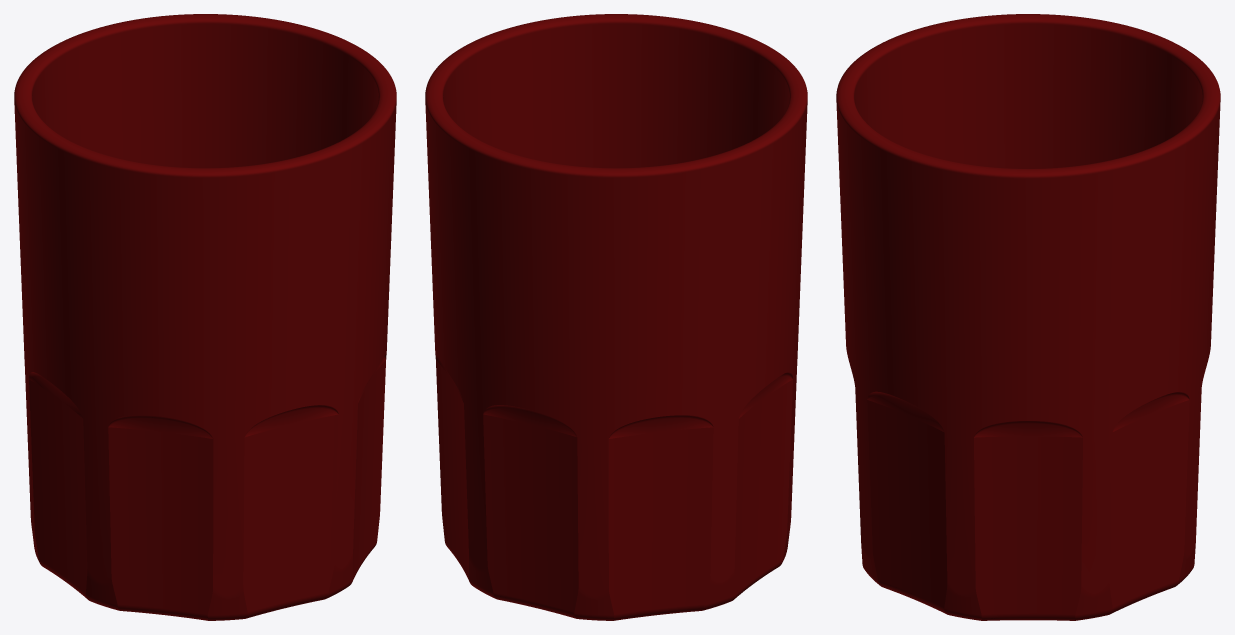
3 renders of one model, left to right at view 1: azimuth 30°, elevation 25°; view 2: azimuth 150°, elevation 25°; view 3: azimuth 270°, elevation 25°, orthographic.
Bounding box in the file's own units: 0.064 × 0.0848 × 0.064.
